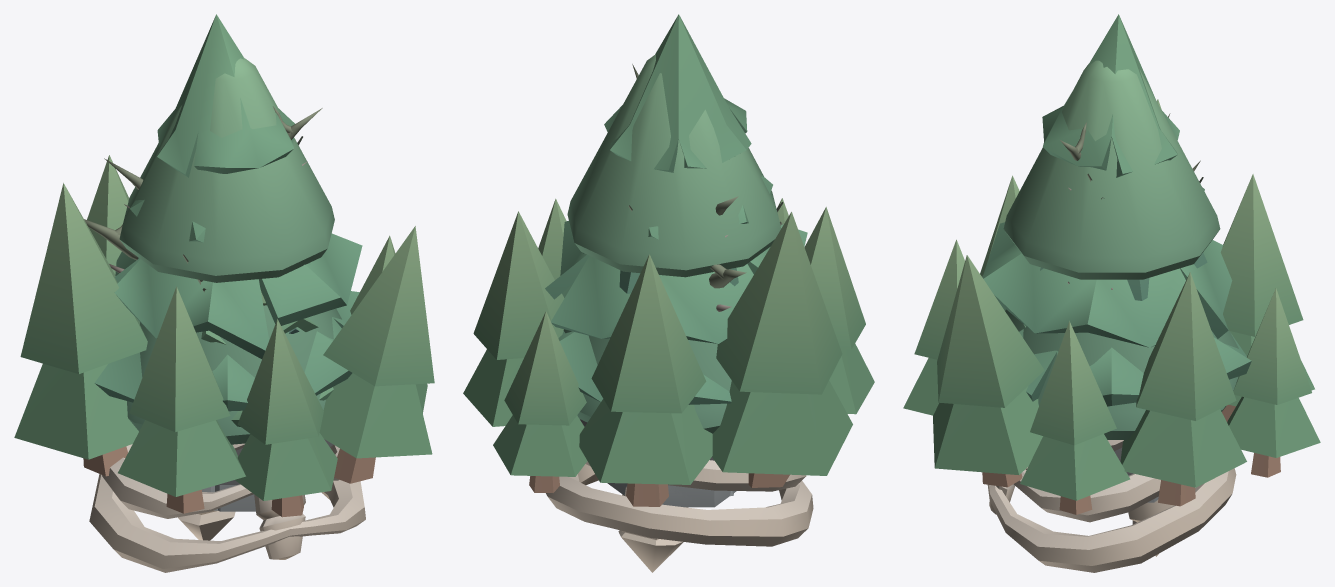
File: env_a.glb
3 views of the same model, side by side, from view 1: azimuth 30°, elevation 25°; view 2: azimuth 150°, elevation 25°; view 3: azimuth 270°, elevation 25° (orthographic).
Parts seen in each view (by area): view 1: round.1, pine.1, pine.0, bone.0, pine.2, swamp.0, swamp.2, rock.2; view 2: round.1, pine.1, pine.0, bone.0, rock.1, rock.0, swamp.2; view 3: round.1, pine.1, pine.0, bone.0.
Part boxes in pixels (<box>): round.1: <box>14,155,434,517</box>; pine.1: <box>119,57,341,444</box>; pine.0: <box>94,14,362,411</box>; bone.0: <box>89,443,365,572</box>; pine.2: <box>137,317,333,426</box>; swamp.0: <box>104,106,322,292</box>; swamp.2: <box>84,219,138,260</box>; rock.2: <box>202,485,255,511</box>; round.1: <box>463,198,874,506</box>; pine.1: <box>563,54,781,433</box>; pine.0: <box>545,14,807,404</box>; bone.0: <box>546,460,813,572</box>; rock.1: <box>625,483,736,507</box>; rock.0: <box>607,483,707,507</box>; swamp.2: <box>709,264,746,288</box>; round.1: <box>903,99,1320,514</box>; pine.1: <box>1003,60,1238,439</box>; pine.0: <box>982,14,1251,406</box>; bone.0: <box>987,440,1236,572</box>.
Bounding box in the file's own units: 4.72 × 6.76 × 4.75.
